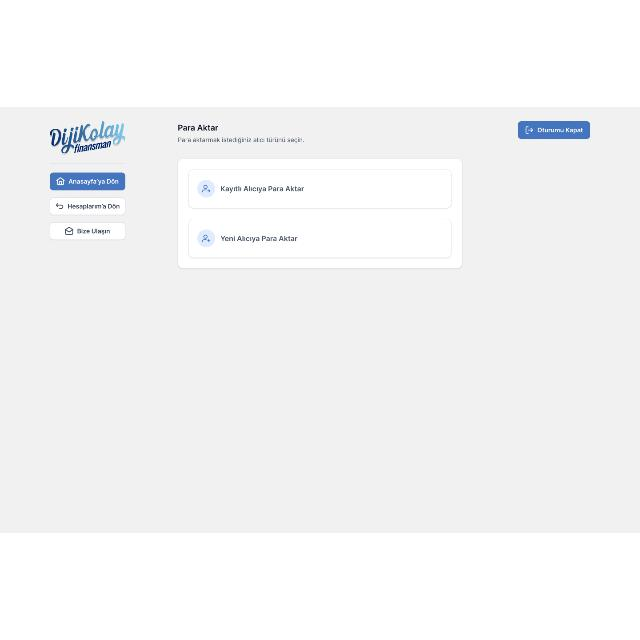QLabel: (175, 136, 305, 144), (220, 184, 304, 193), (220, 235, 298, 243), (66, 203, 120, 211), (68, 178, 120, 186), (537, 127, 585, 135), (175, 124, 221, 132), (76, 228, 110, 235)
VBtn: (48, 196, 125, 216), (49, 172, 125, 190), (517, 121, 593, 139), (51, 223, 125, 241)
VCard: (178, 158, 462, 270), (187, 168, 453, 210), (187, 218, 453, 258)
VIcon: (197, 180, 215, 198), (198, 230, 216, 248), (64, 225, 74, 237), (54, 176, 66, 186), (524, 126, 534, 134), (56, 202, 64, 210)
VImg: (47, 119, 127, 158)
